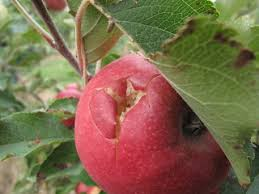damaged_apple: (80, 57, 226, 189)
